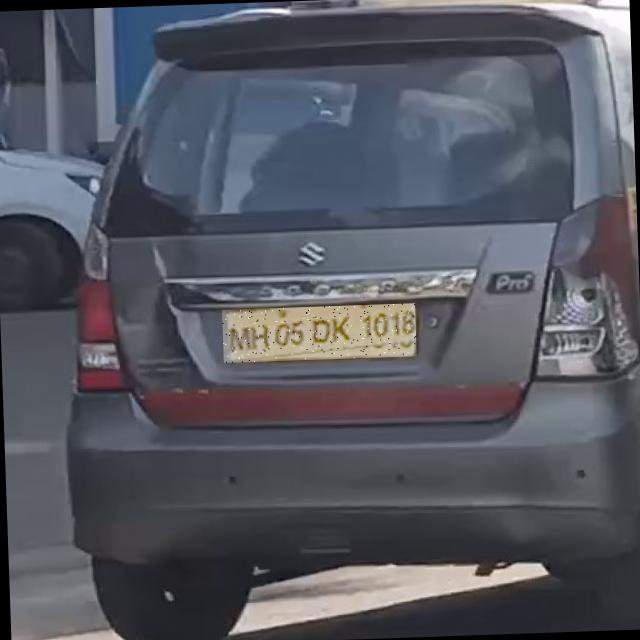Plate: (223, 304, 418, 364)
